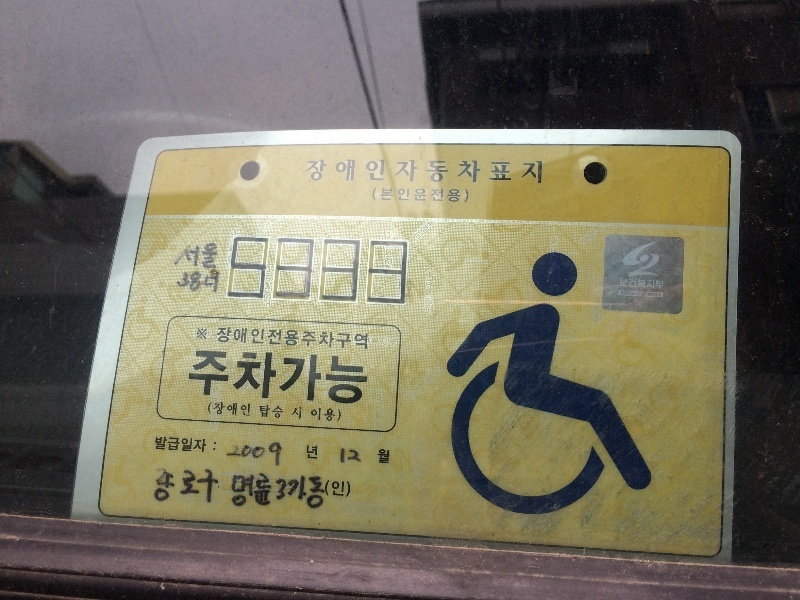text: (241, 238, 256, 305), (257, 238, 272, 305), (273, 238, 288, 305), (289, 238, 304, 305), (305, 238, 320, 305), (321, 238, 336, 305), (337, 238, 352, 305), (353, 238, 368, 305), (369, 238, 384, 305), (385, 238, 400, 305), (209, 349, 224, 406), (225, 349, 240, 406), (241, 349, 256, 406), (257, 349, 272, 406), (273, 349, 288, 406), (289, 349, 304, 406), (305, 349, 320, 406), (321, 349, 336, 406), (337, 349, 352, 406), (353, 349, 368, 406), (195, 349, 208, 406), (257, 472, 273, 508), (417, 367, 432, 405), (241, 358, 256, 396), (257, 358, 272, 396), (227, 228, 240, 270), (241, 472, 256, 508), (401, 238, 409, 305), (161, 469, 176, 503), (177, 469, 192, 503), (193, 469, 208, 503), (289, 477, 304, 509), (305, 477, 320, 509), (321, 477, 336, 509), (214, 385, 224, 430), (337, 477, 351, 509), (193, 242, 208, 271), (405, 367, 416, 405), (234, 238, 240, 305), (353, 327, 369, 351), (179, 242, 192, 271), (321, 160, 336, 185), (337, 160, 352, 185), (353, 160, 368, 185), (369, 160, 384, 185), (385, 160, 400, 185), (401, 160, 416, 185), (417, 160, 432, 185), (433, 160, 448, 185), (449, 160, 464, 185), (465, 160, 480, 185), (481, 160, 496, 185), (497, 160, 512, 185), (513, 160, 528, 185), (241, 443, 256, 468), (257, 443, 272, 468), (209, 469, 220, 503), (225, 327, 240, 351), (241, 327, 256, 351), (257, 327, 272, 351), (273, 327, 288, 351), (289, 327, 304, 351), (305, 327, 320, 351), (321, 327, 336, 351), (337, 327, 352, 351), (257, 213, 272, 237), (277, 477, 288, 509), (529, 160, 543, 185), (177, 272, 192, 294), (193, 272, 208, 294), (377, 392, 384, 439), (307, 160, 320, 185), (227, 443, 240, 468), (209, 242, 220, 271), (425, 270, 432, 315), (417, 220, 432, 241), (433, 367, 441, 405), (385, 250, 400, 270), (580, 223, 592, 247), (593, 223, 605, 247), (209, 272, 221, 294), (161, 437, 176, 454), (177, 437, 192, 454), (209, 401, 224, 418), (225, 401, 240, 418), (233, 472, 240, 508), (273, 443, 283, 468), (193, 437, 207, 454), (321, 408, 336, 423), (385, 188, 400, 202), (401, 188, 416, 202), (417, 188, 432, 202), (433, 188, 448, 202), (449, 188, 464, 202), (267, 265, 272, 307), (306, 446, 320, 460), (258, 404, 272, 418), (340, 449, 352, 464), (155, 469, 160, 503), (241, 401, 251, 418), (372, 188, 384, 202), (217, 327, 224, 351), (273, 213, 280, 237), (273, 404, 284, 418), (293, 406, 304, 420), (551, 237, 560, 254), (273, 358, 277, 396), (372, 337, 384, 349), (385, 337, 397, 349), (353, 449, 362, 464), (625, 280, 640, 289), (641, 280, 656, 289), (311, 408, 320, 423), (386, 231, 400, 240), (195, 330, 208, 339), (369, 349, 371, 406), (377, 449, 384, 465), (214, 442, 224, 452), (625, 291, 640, 297), (433, 270, 435, 315), (155, 437, 160, 454), (433, 220, 437, 241), (273, 265, 275, 307), (385, 449, 390, 465), (641, 292, 656, 297), (657, 280, 665, 289), (209, 330, 217, 339), (413, 220, 416, 241), (337, 408, 341, 423), (465, 188, 469, 202), (618, 280, 624, 289), (648, 293, 656, 298), (657, 293, 662, 298), (621, 291, 624, 297), (641, 291, 642, 297)
